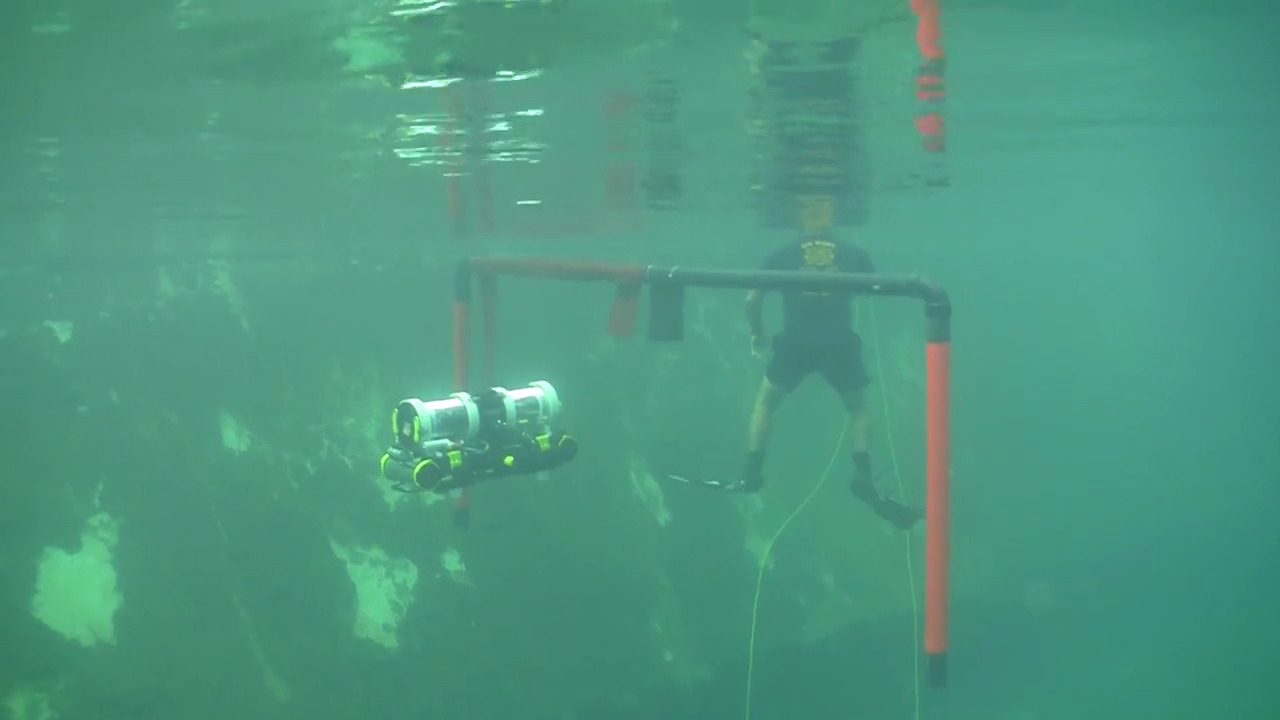gate: (443, 248, 973, 705)
